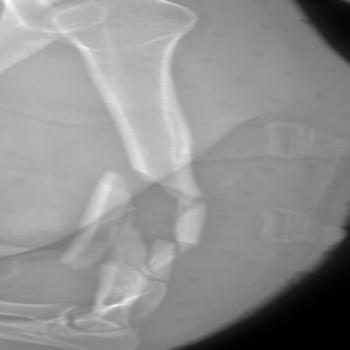Fracture: (81, 162, 227, 257)
